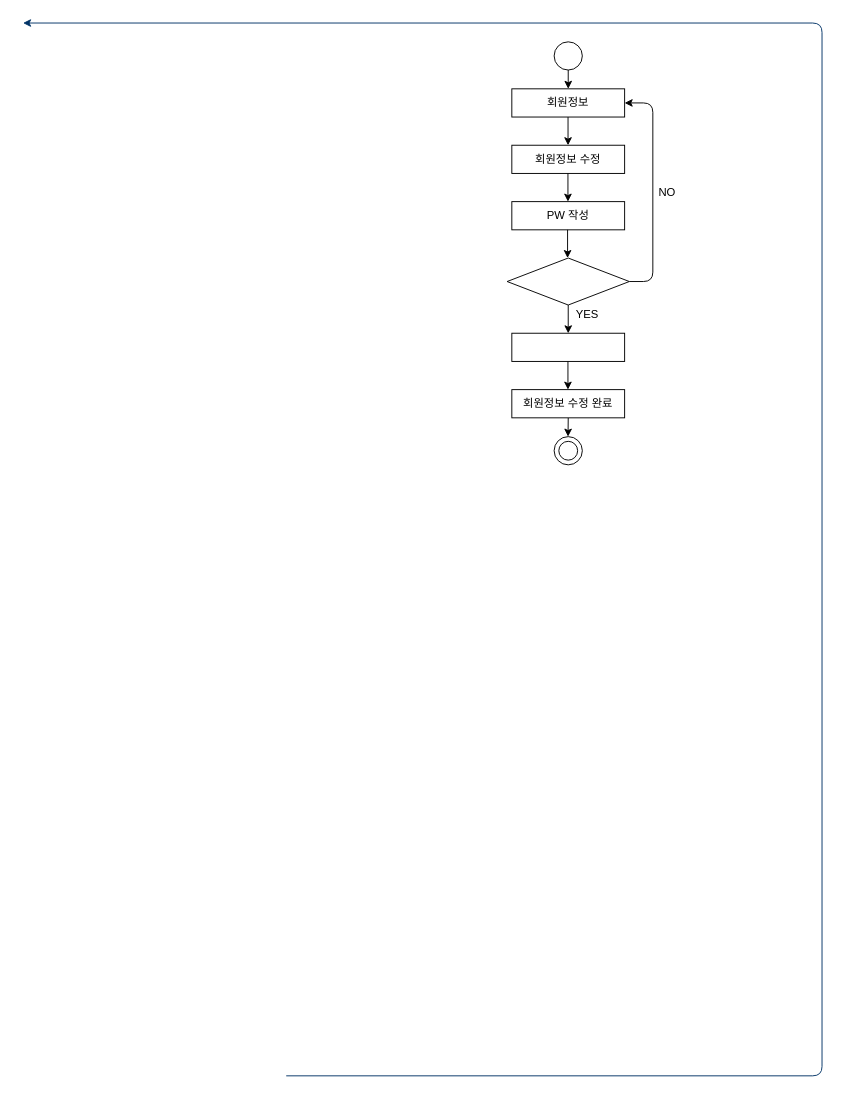
Some shapes in this 846 by 1100 pixel diagram are drawn without their labels. The centre of each missing label's shape, as x and y in pixels:
DB 회원정보 일치 여부: (x=567, y=281)
회원정보 수정 작성: (x=568, y=346)
